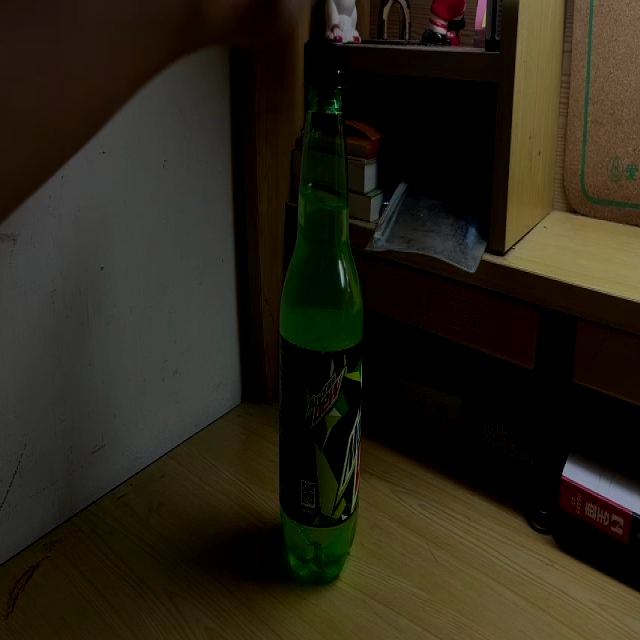Mountain-Dew: (279, 36, 366, 581)
